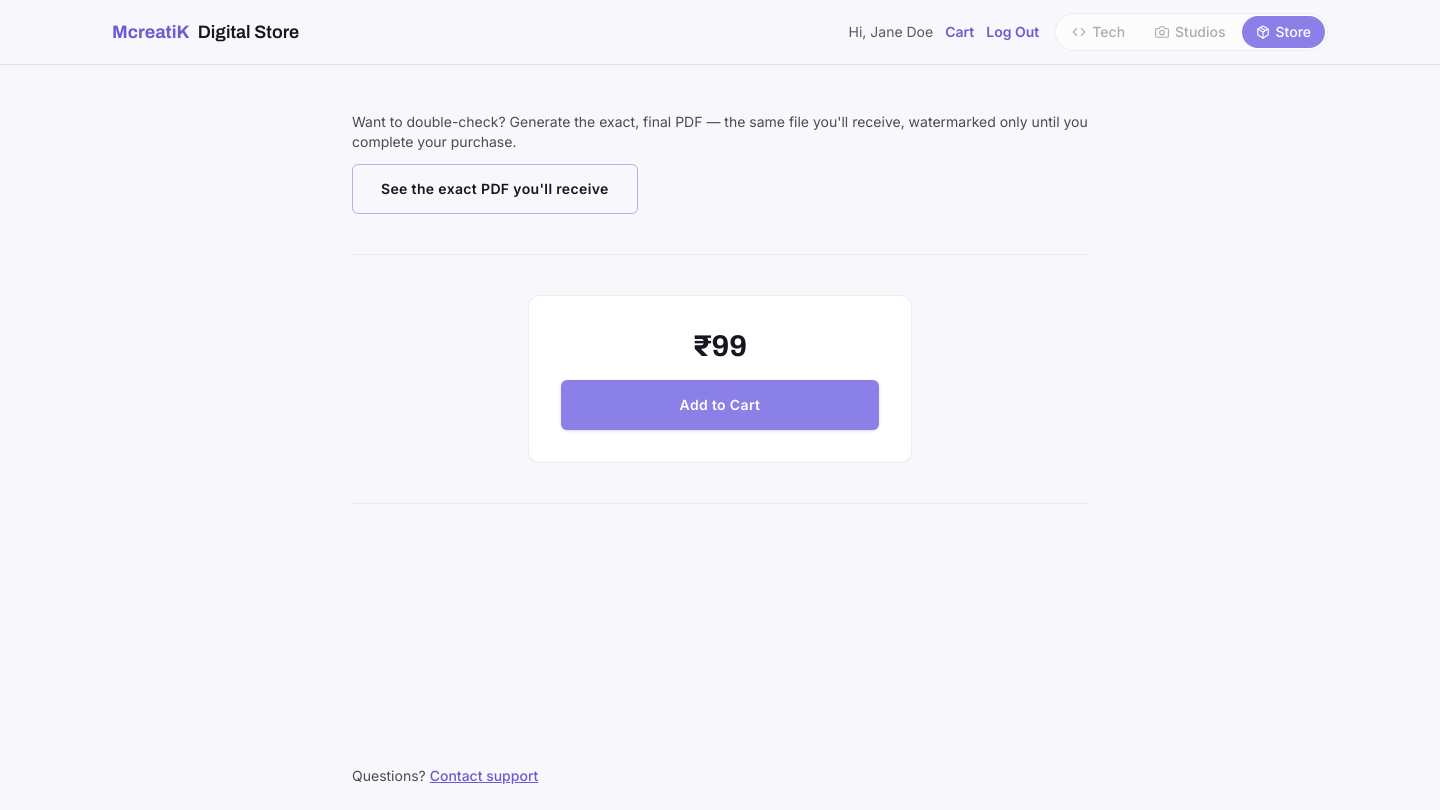
StoreProductPage — non-editable field does not block add-to-cart › blocks adding to cart when an actually-editable required field is left blank
(page scrolled)
Click the button "Add to Cart".
click(720, 405)  # box top-left (561, 380), bottom-right (879, 430)
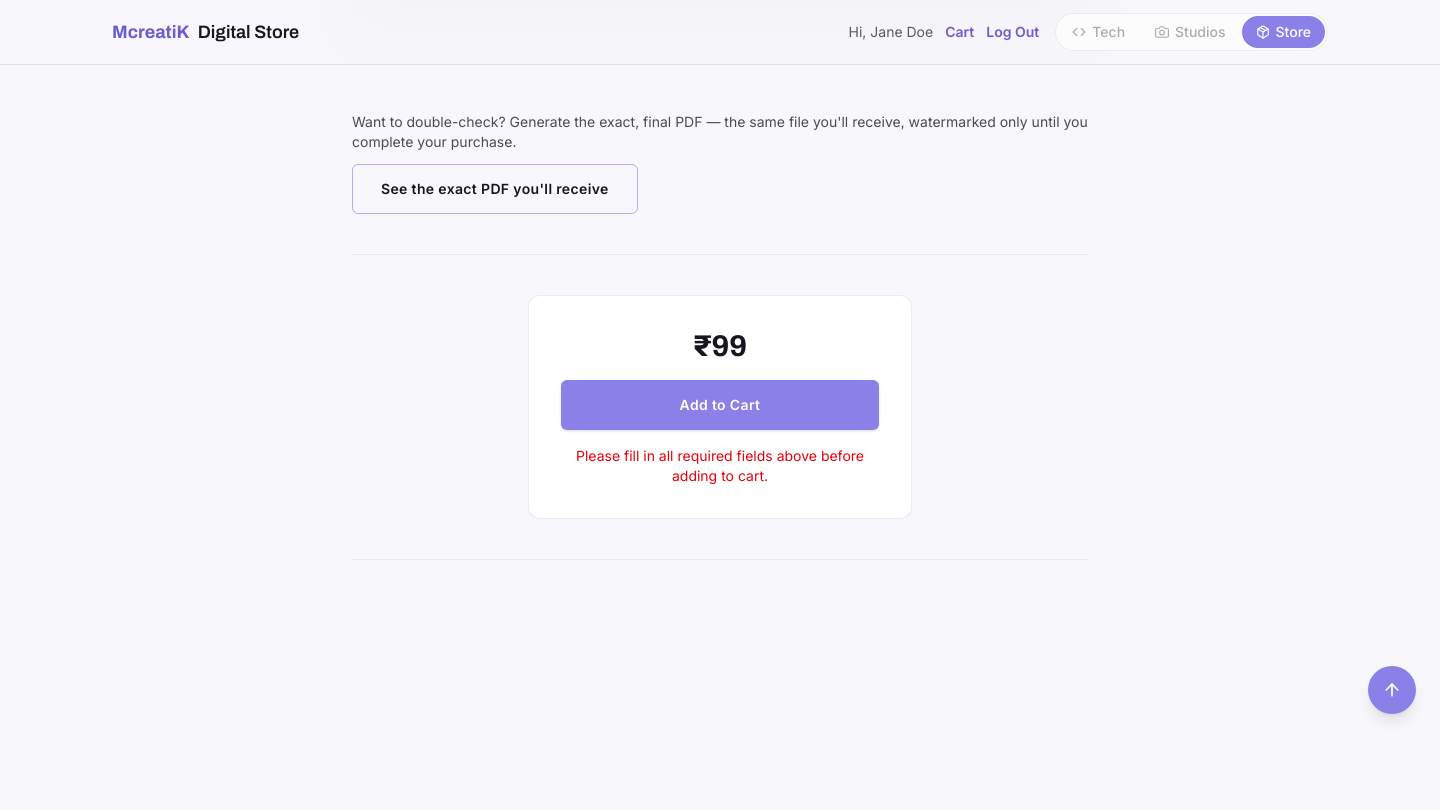
Result: the text "Please fill in all required fields" is shown at top-left (576, 447), bottom-right (864, 484)
